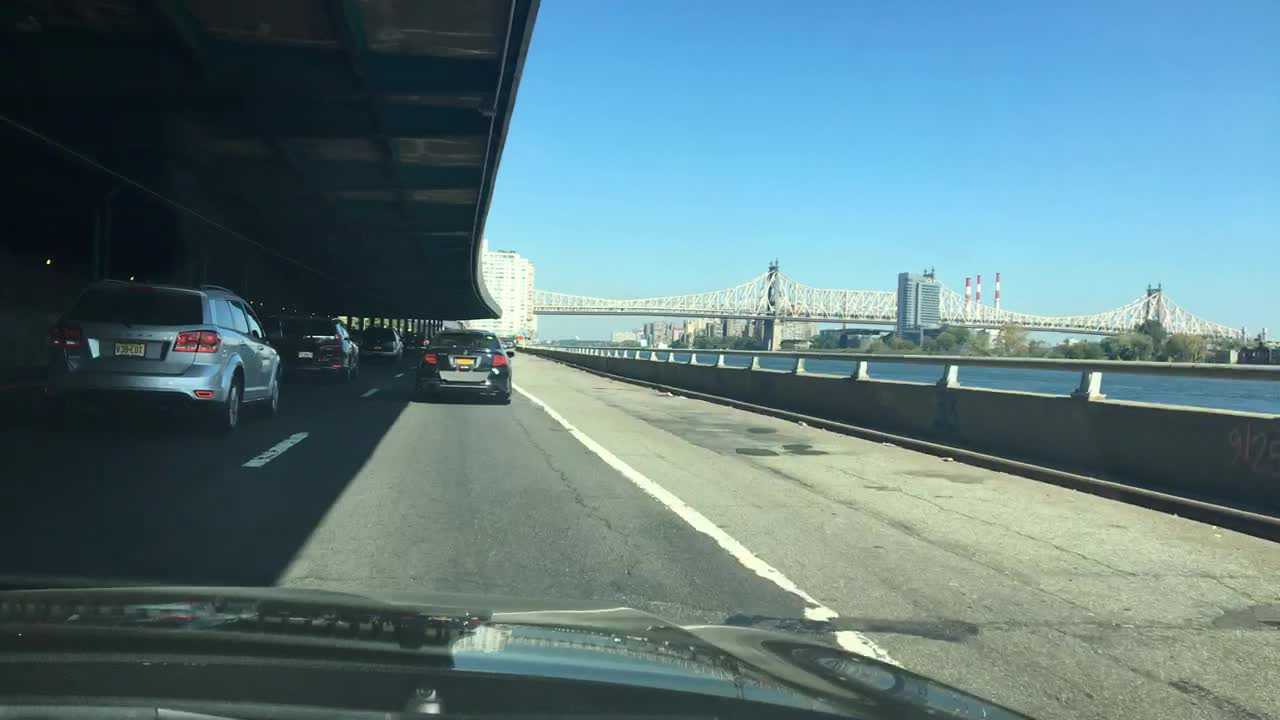car: (40, 278, 283, 430), (411, 329, 511, 405), (266, 314, 361, 385), (354, 324, 401, 361), (400, 327, 428, 354), (498, 334, 513, 356)
